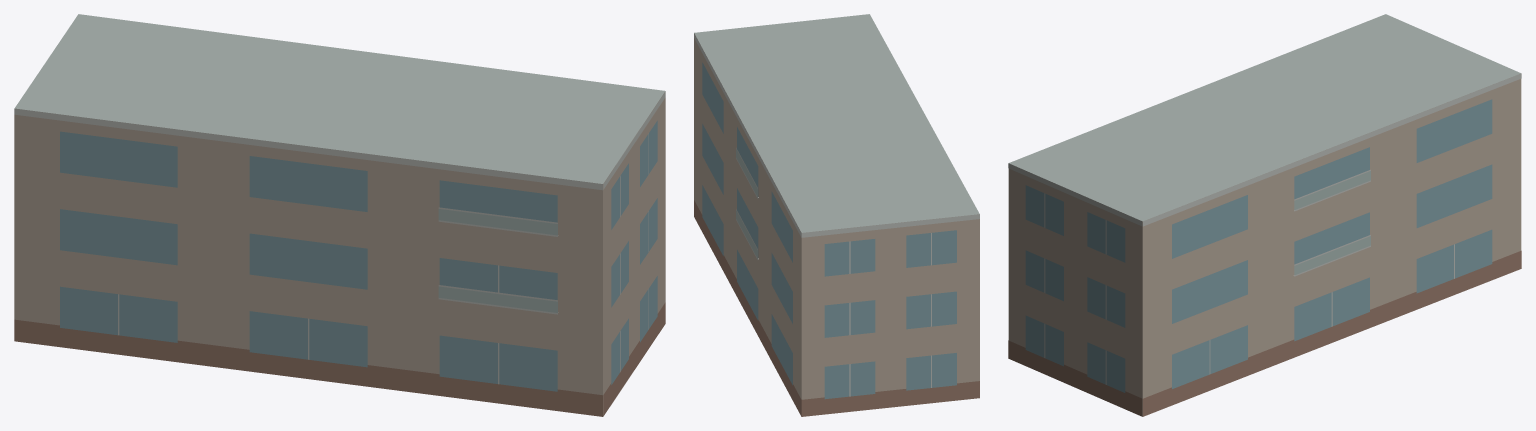
File: survey-upis-32596682.glb
3 renders of one model, left to right at view 1: azimuth 30°, elevation 25°; view 2: azimuth 150°, elevation 25°; view 3: azimuth 270°, elevation 25°, orthographic. The views are drawn at different scales.
Parts seen in each view (by area): view 1: survey-upis-32596682.tmp; view 2: survey-upis-32596682.tmp; view 3: survey-upis-32596682.tmp.
Boxes of the visible parts, <box> form: survey-upis-32596682.tmp: <box>14,14,665,416</box>; survey-upis-32596682.tmp: <box>694,14,979,416</box>; survey-upis-32596682.tmp: <box>1008,14,1521,416</box>.
Bounding box in the file's own units: 20.84 × 9.15 × 21.77.
